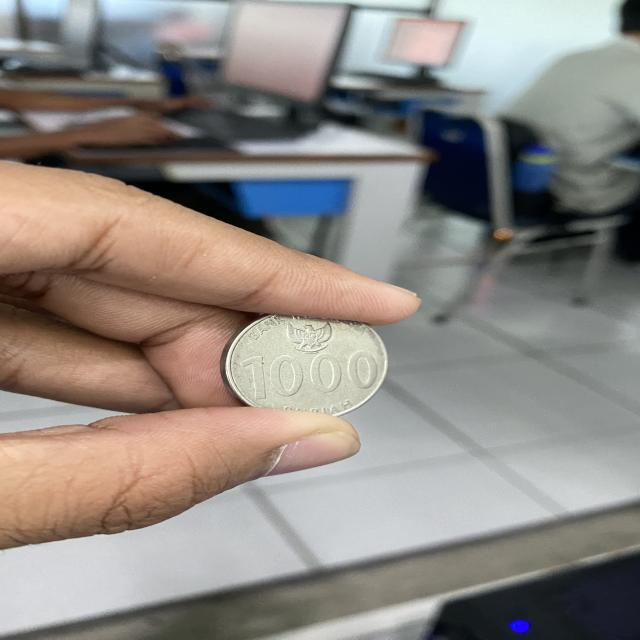1000-angklung: (222, 315, 387, 416)
